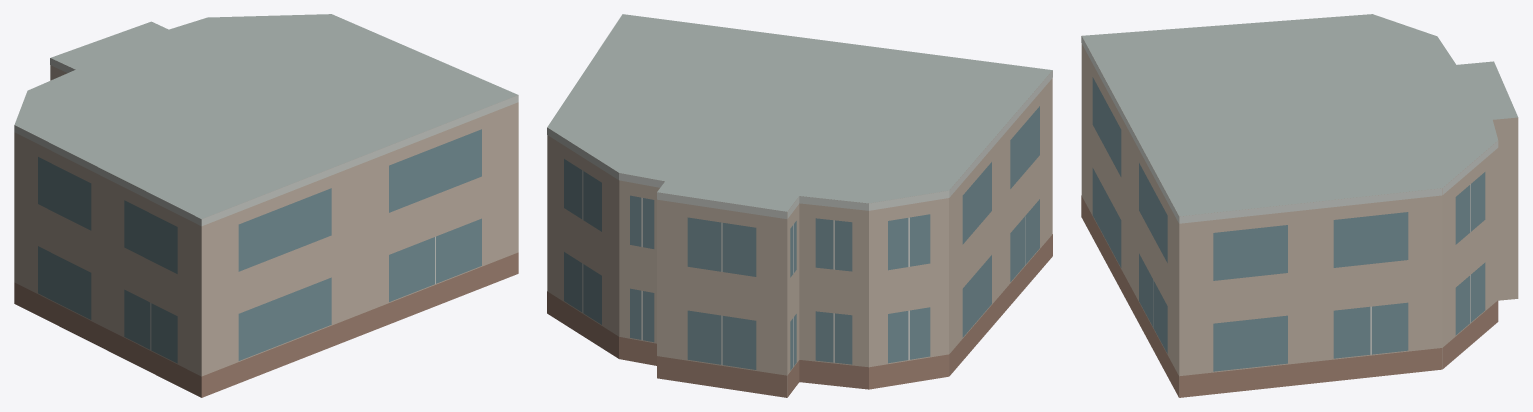
File: survey-upis-32836587.glb
3 renders of one model, left to right at view 1: azimuth 30°, elevation 25°; view 2: azimuth 150°, elevation 25°; view 3: azimuth 270°, elevation 25°, orthographic. The views are drawn at different scales.
Parts seen in each view (by area): view 1: survey-upis-32836587.tmp; view 2: survey-upis-32836587.tmp; view 3: survey-upis-32836587.tmp.
Part boxes in pixels (x1,y1,x2,y2): survey-upis-32836587.tmp: (14,14,518,397); survey-upis-32836587.tmp: (547,14,1052,397); survey-upis-32836587.tmp: (1081,14,1518,397).
Bounding box in the file's own units: 14.62 × 6.1 × 13.33.
